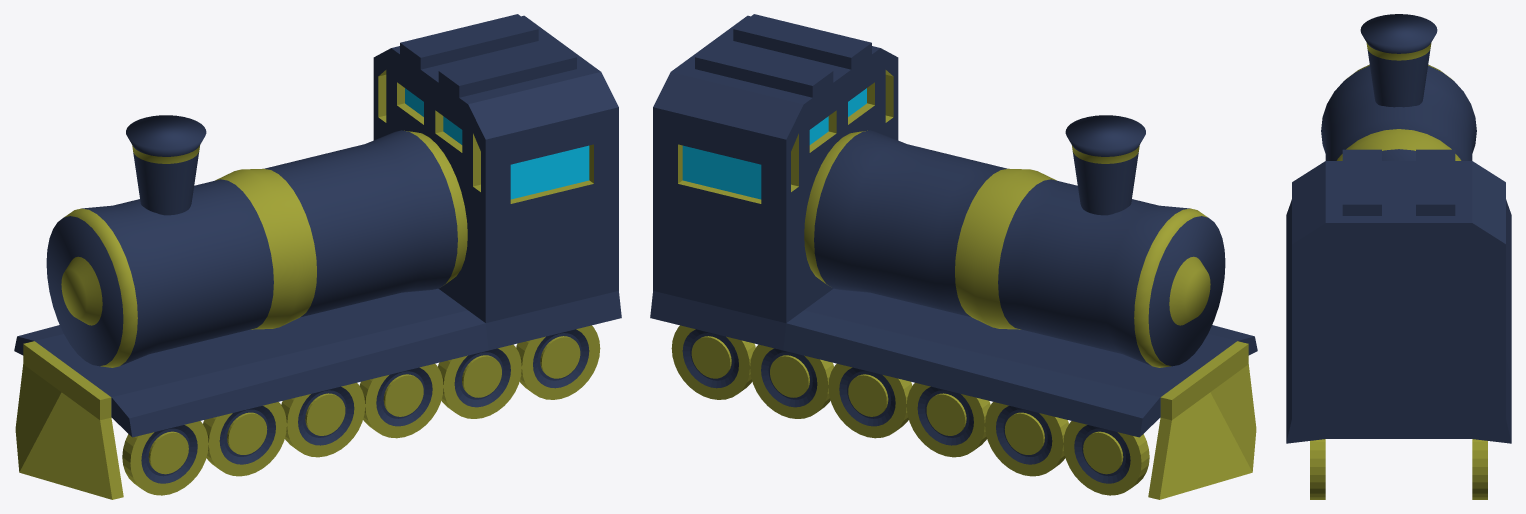
File: TrainModel09.fbx
3 renders of one model, left to right at view 1: azimuth 30°, elevation 25°; view 2: azimuth 150°, elevation 25°; view 3: azimuth 270°, elevation 25°, orthographic. The views are drawn at different scales.
Visible parts, largest first — view 1: TrainModel09; view 2: TrainModel09; view 3: TrainModel09.
Part boxes in pixels (bbox=[...]): TrainModel09: bbox=[14, 14, 621, 499]; TrainModel09: bbox=[650, 14, 1257, 499]; TrainModel09: bbox=[1286, 14, 1511, 499].
Bounding box in the file's own units: 816 × 461 × 307.
